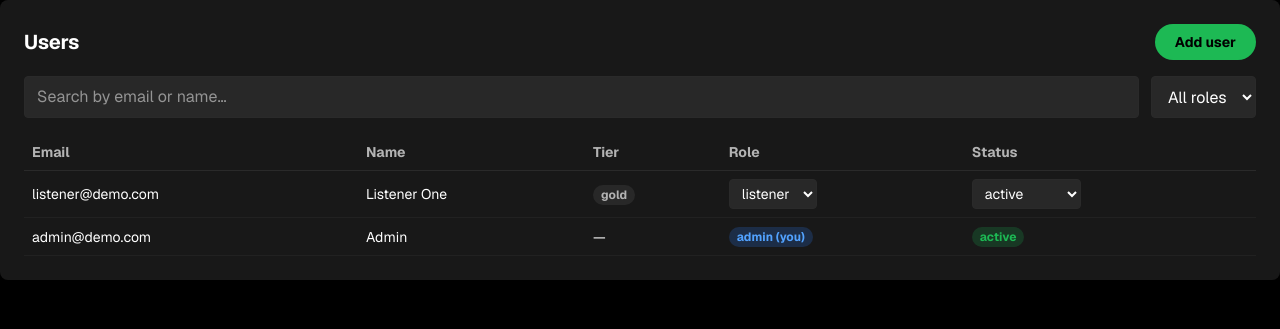
Test: UserManagement › reverts the row and reports the reason when a role change is refused
The width and height of the screenshot is (1280, 329).
Expected: the text "listener@demo.com" is shown, [24, 170, 358, 218]
Select "admin" in the dropdown named "Role for listener@demo.com" at (773, 194), box [729, 179, 817, 209]
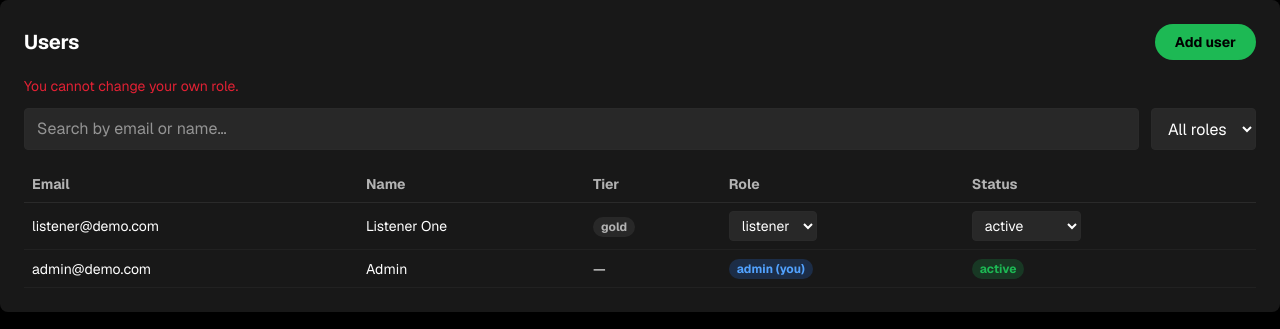
Result: the message reads "You cannot change your own role." at [24, 77, 238, 95]
